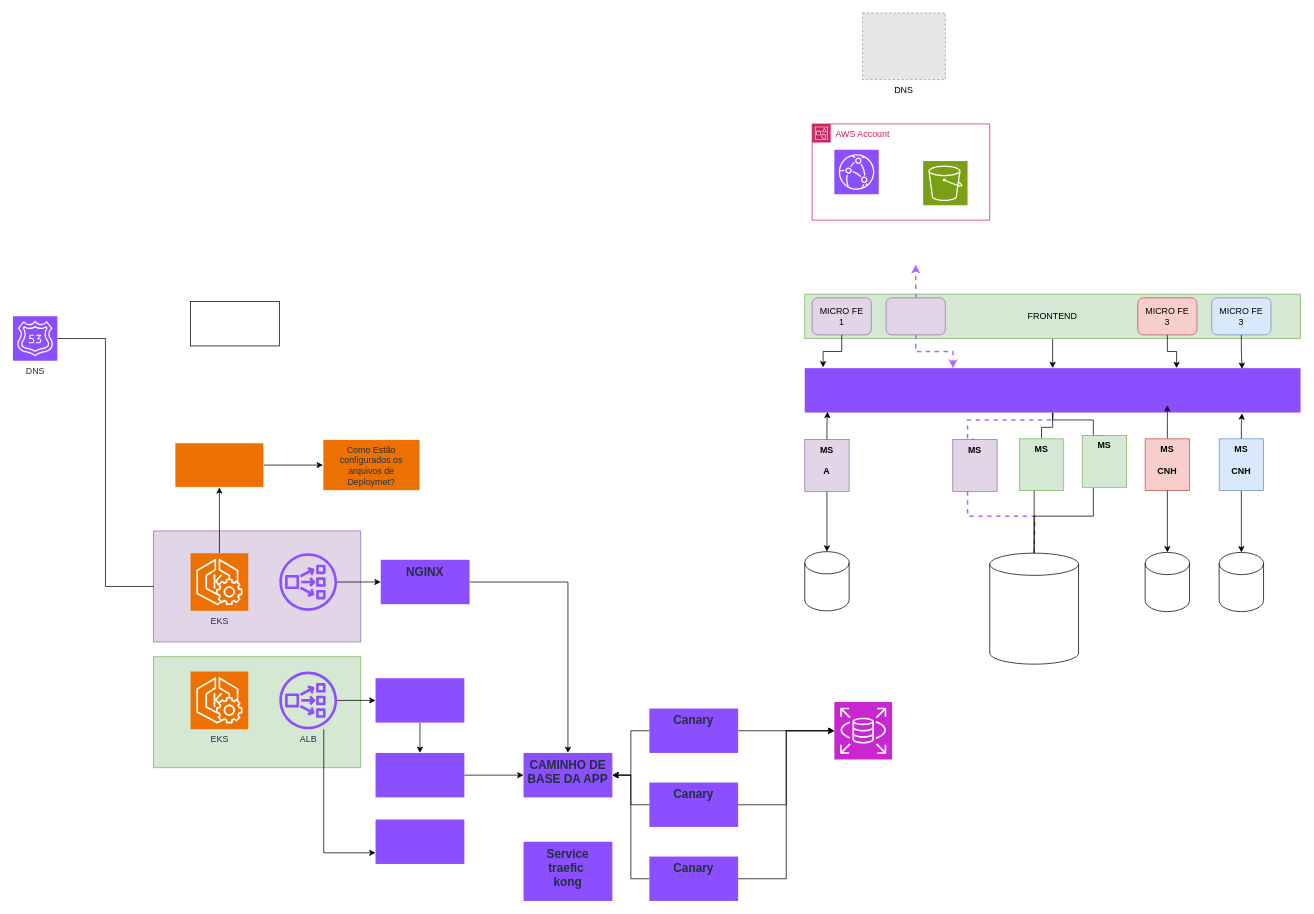
The diagram is 1314 pixels wide and 914 high, and some of its shapes have lost their labels. Grey dashed boxes stand in for pictures. The centre of each missing label's shape, as x and y in pixels:
Amazon CLoudFront: pixel 856 171
API do Cluster está Publica?: pixel 219 464
CAMADA DE API: pixel 1052 390
DDD Nome de Dominios: pixel 234 323
MICRO FE 2: pixel 915 316
Mult tenant Doamin: pixel 419 700
NLB: pixel 308 581
S3: pixel 945 182
schema separado?: pixel 1034 608
Seguros Empresa: pixel 419 775
XYZ: pixel 419 841
